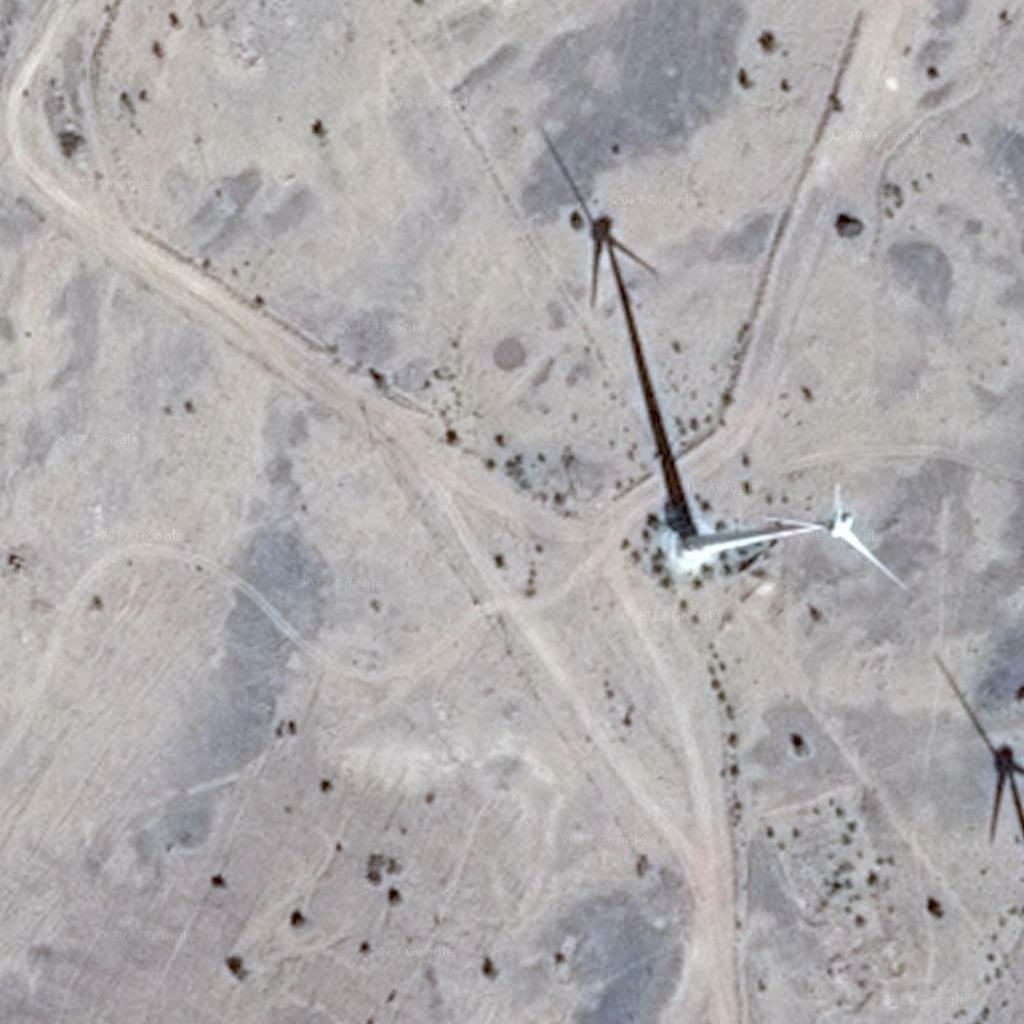Windmill: (534, 115, 709, 541)
